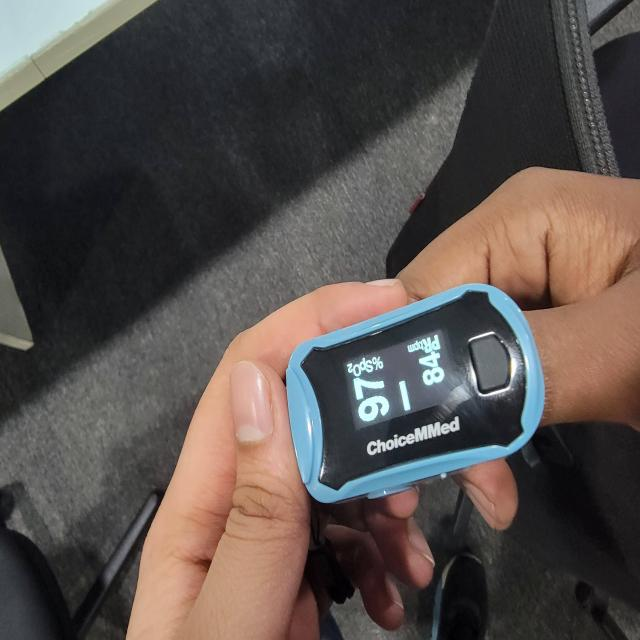spo2: (284, 283, 545, 507)
